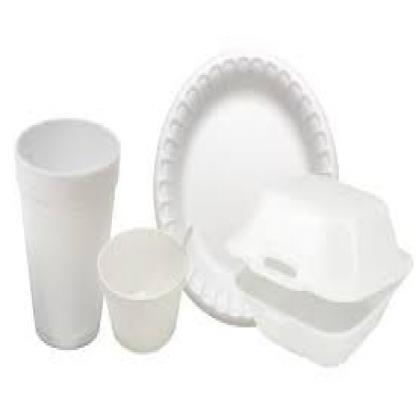paper: (151, 50, 336, 327), (229, 168, 412, 364), (15, 118, 117, 350), (97, 230, 183, 352)
